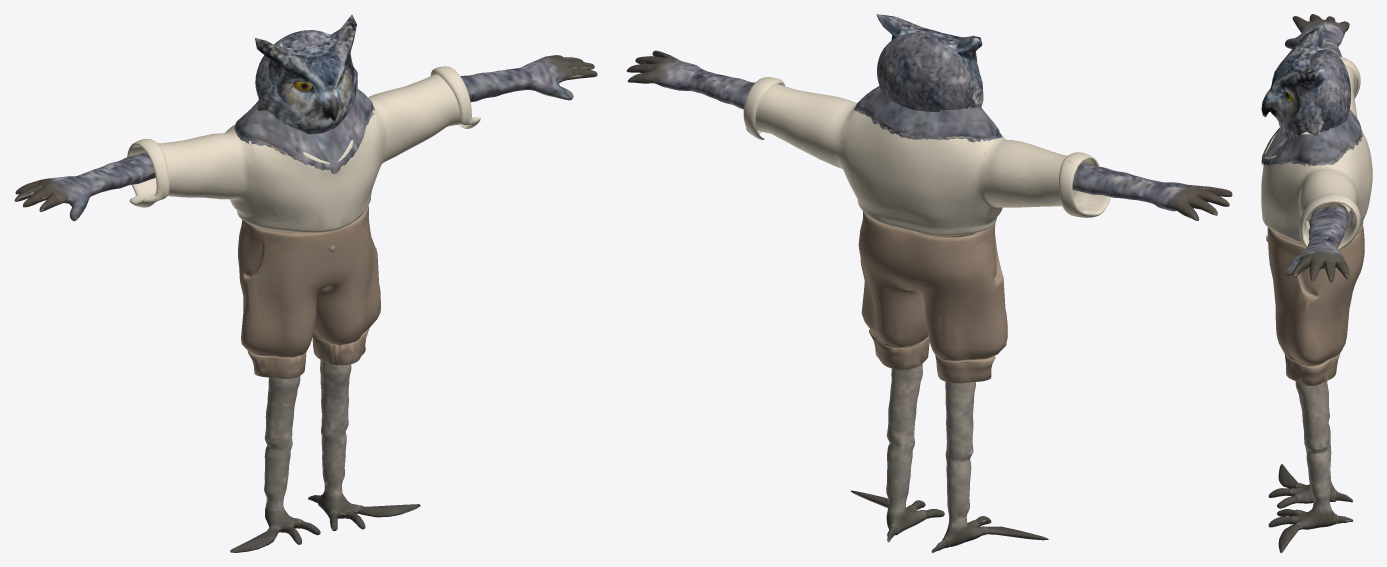
File: owl_character.glb
3 renders of one model, left to right at view 1: azimuth 30°, elevation 25°; view 2: azimuth 150°, elevation 25°; view 3: azimuth 270°, elevation 25°, orthographic. The views are drawn at different scales.
Parts seen in each view (by area): view 1: owl_jumper, owl_trousers, owl_feet, owl_head, owl_hands, owl_ruff; view 2: owl_jumper, owl_trousers, owl_feet, owl_head, owl_hands, owl_ruff; view 3: owl_trousers, owl_jumper, owl_head, owl_feet, owl_hands, owl_ruff.
Part boxes in pixels (<box>): owl_jumper: <box>127,66,480,232</box>; owl_trousers: <box>238,205,380,378</box>; owl_feet: <box>230,360,420,552</box>; owl_head: <box>255,14,357,134</box>; owl_hands: <box>14,55,597,221</box>; owl_ruff: <box>234,89,374,173</box>; owl_jumper: <box>743,77,1110,236</box>; owl_trousers: <box>858,212,1007,383</box>; owl_feet: <box>851,363,1048,552</box>; owl_head: <box>876,14,983,111</box>; owl_hands: <box>626,50,1232,220</box>; owl_ruff: <box>853,85,1001,142</box>; owl_trousers: <box>1267,202,1364,385</box>; owl_jumper: <box>1261,56,1372,250</box>; owl_head: <box>1261,25,1350,139</box>; owl_feet: <box>1268,381,1353,552</box>; owl_hands: <box>1285,14,1349,282</box>; owl_ruff: <box>1261,109,1362,166</box>.
Bounding box in the file's own units: 1.33 × 1.1 × 0.2379.
Materials: 1 (1 with a texture image).
